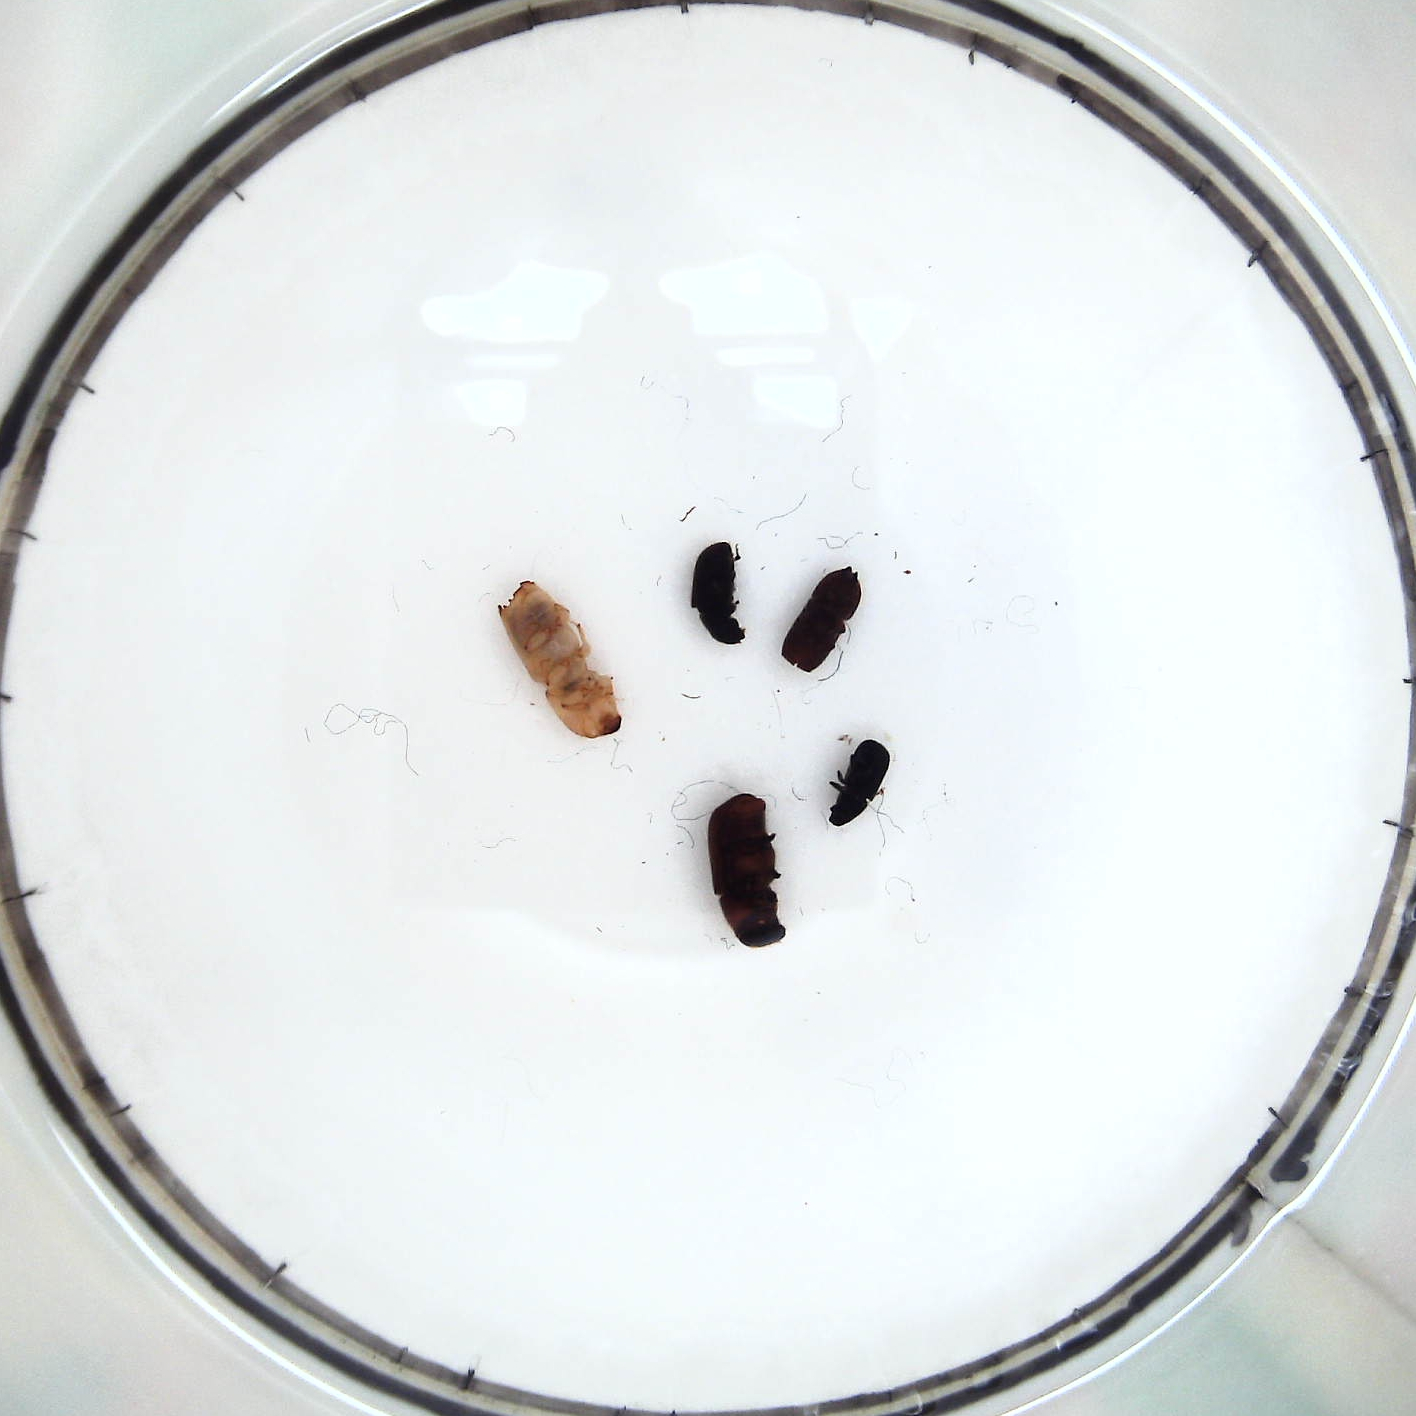Boerner: (495, 577, 622, 746)
Leconte: (705, 794, 790, 952)
Linnaeus: (783, 567, 861, 669)
armandi: (692, 536, 746, 650)
coleoptera: (829, 738, 890, 830)
